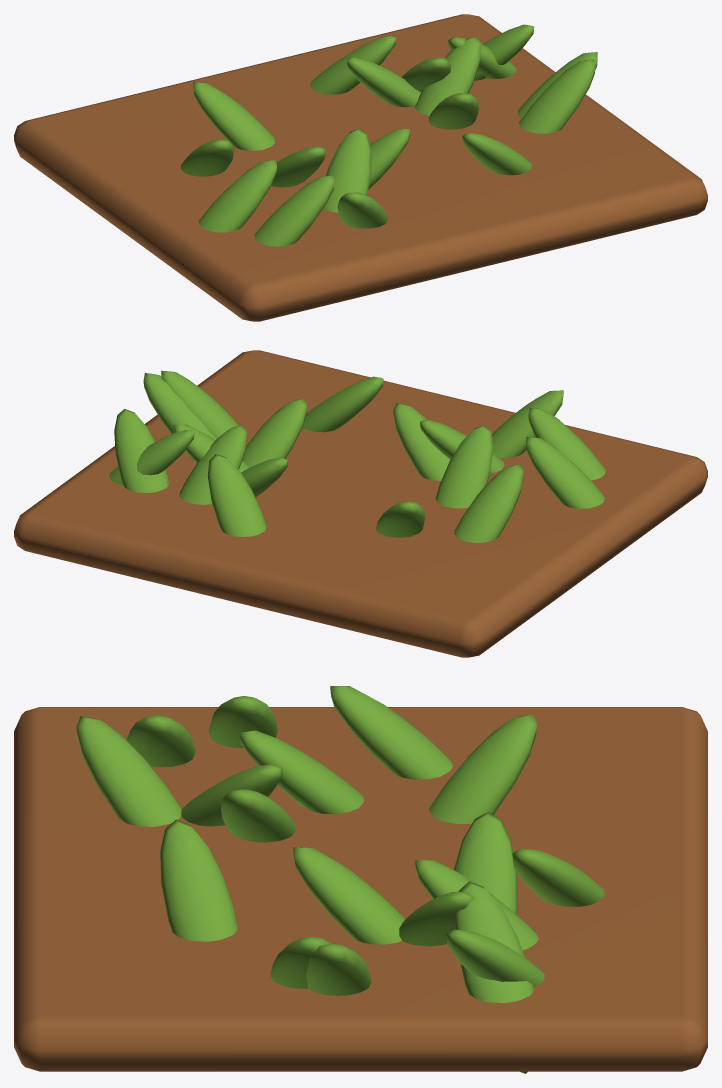
The model's file is JPN-19.glb.
3 views of the same model, one above another, from view 1: azimuth 30°, elevation 25°; view 2: azimuth 150°, elevation 25°; view 3: azimuth 270°, elevation 25° (orthographic). The views are drawn at different scales.
Parts seen in each view (by area): view 1: garden bed, leaf.011, leaf.007, leaf.001, leaf.005, leaf.013, leaf.004, leaf.006, leaf.012, leaf, leaf.014, leaf.009 (+7 smaller); view 2: garden bed, leaf.006, leaf.014, leaf.009, leaf.007, leaf.015, leaf.017, leaf, leaf.016, leaf.001, leaf.003, leaf.010 (+7 smaller); view 3: garden bed, leaf, leaf.010, leaf.005, leaf.014, leaf.017, leaf.009, leaf.012, leaf.002, leaf.006, leaf.015, leaf.016 (+7 smaller).
Part boxes in pixels (<box>): garden bed: <box>14,14,707,321</box>; leaf.011: <box>519,59,595,133</box>; leaf.007: <box>198,159,276,232</box>; leaf.001: <box>254,175,334,246</box>; leaf.005: <box>193,82,274,150</box>; leaf.013: <box>323,128,371,212</box>; leaf.004: <box>415,36,481,115</box>; leaf.006: <box>310,36,396,94</box>; leaf.012: <box>347,57,420,107</box>; leaf: <box>462,132,531,175</box>; leaf.014: <box>180,139,234,176</box>; leaf.009: <box>271,146,325,187</box>; garden bed: <box>14,350,707,657</box>; leaf.006: <box>207,454,266,536</box>; leaf.014: <box>454,464,523,542</box>; leaf.009: <box>435,425,493,508</box>; leaf.007: <box>526,436,604,508</box>; leaf.015: <box>114,409,168,492</box>; leaf.017: <box>242,399,306,467</box>; leaf: <box>302,376,383,432</box>; leaf.016: <box>393,403,450,480</box>; leaf.001: <box>528,407,605,480</box>; leaf.003: <box>179,425,247,504</box>; leaf.010: <box>492,390,563,457</box>; garden bed: <box>14,707,707,1071</box>; leaf: <box>160,819,237,941</box>; leaf.010: <box>76,716,181,826</box>; leaf.005: <box>429,714,536,823</box>; leaf.014: <box>330,686,452,779</box>; leaf.017: <box>293,847,405,944</box>; leaf.009: <box>240,730,363,814</box>; leaf.012: <box>453,812,517,914</box>; leaf.002: <box>454,881,533,1073</box>; leaf.006: <box>512,848,604,906</box>; leaf.015: <box>446,929,544,986</box>; leaf.016: <box>221,789,295,842</box>.
Bounding box in the file's own units: 1.8 × 0.3269 × 1.6.
